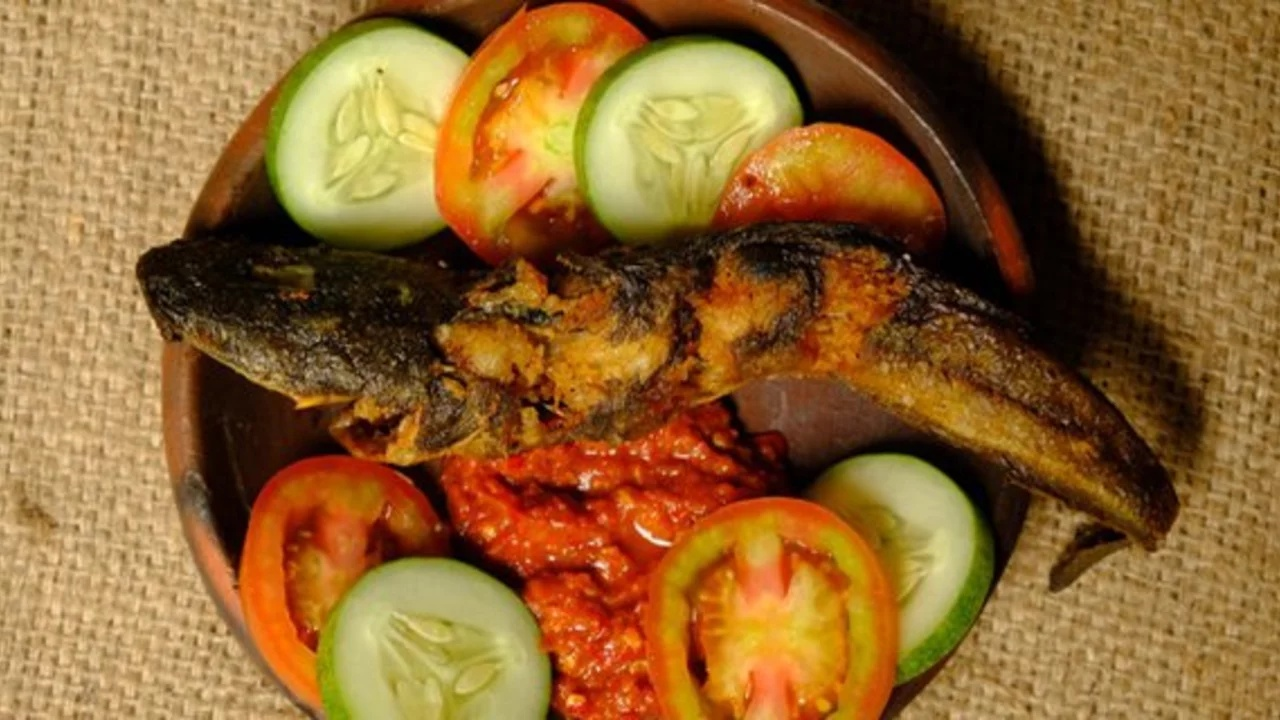pecel_lele: (94, 226, 1164, 442)
